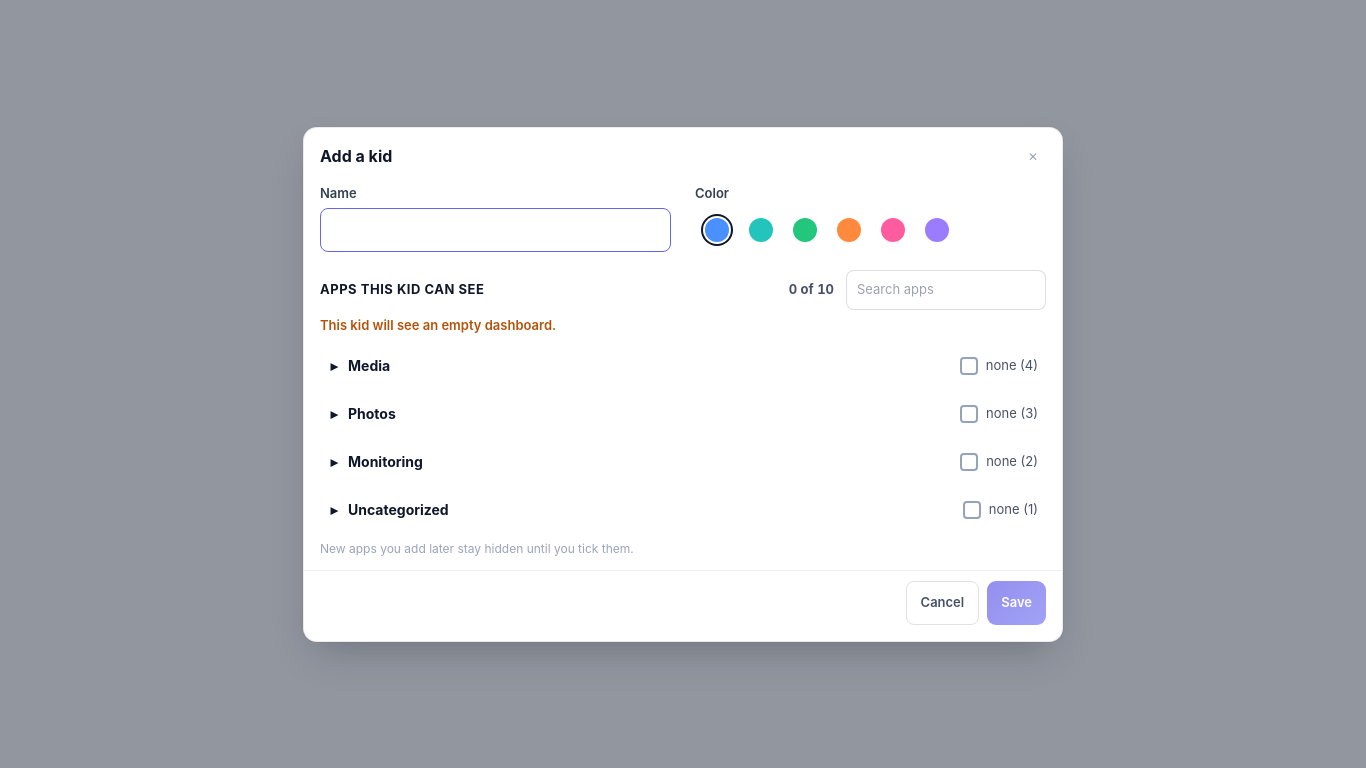
Test: App checklist (UX §3) › search filters chips across sections and expands any section with a match
Expected: the element with test id "kid-checklist" is shown, x1=320 y1=344 x2=1046 y2=532
Type "jelly" into the search field labelled "Search apps". click: (946, 290)
box: x1=846 y1=270 x2=1046 y2=310
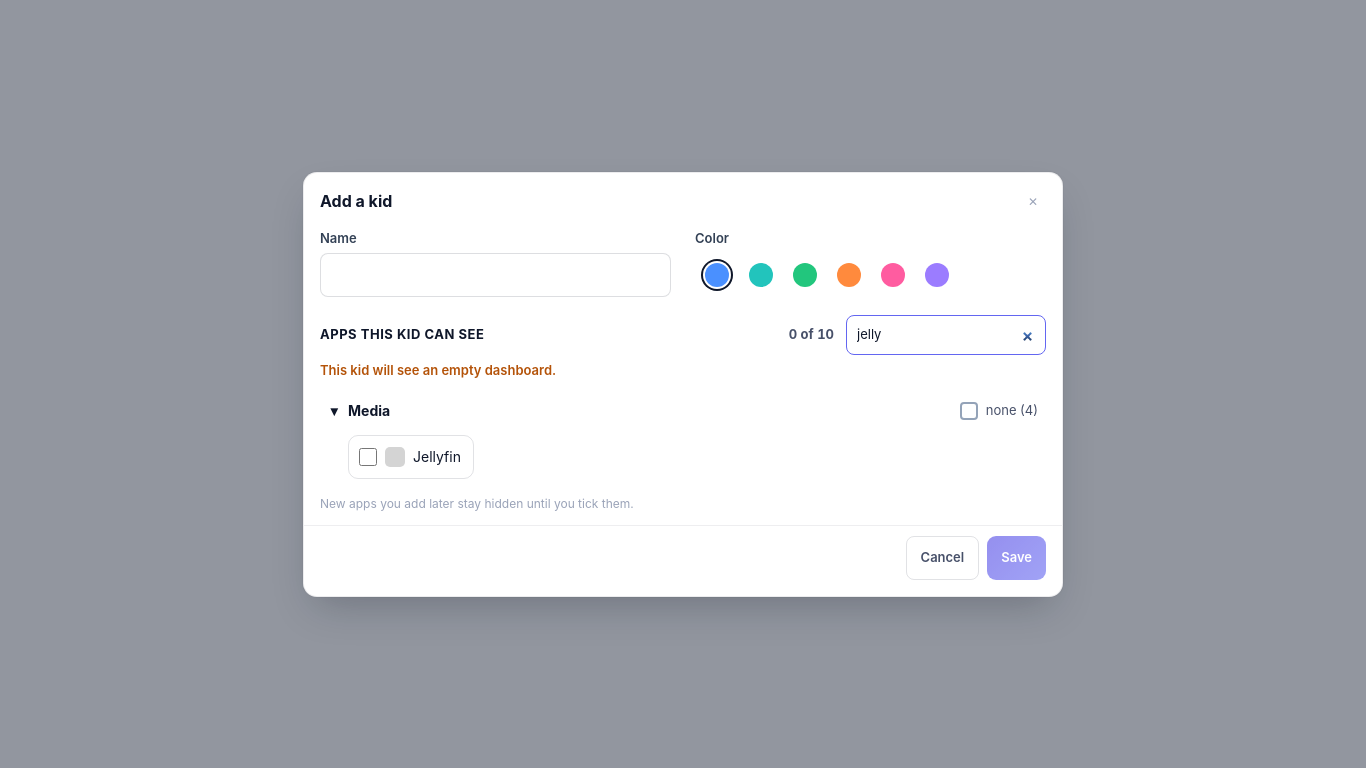
Expected: the text with test id "kid-app-count" reads "0 of 10", x1=789 y1=325 x2=834 y2=345
Result: the checkbox labelled "Jellyfin" is shown at x1=359 y1=448 x2=377 y2=466
Clear the search field named "Search apps". click: (946, 335)
box: x1=846 y1=315 x2=1046 y2=355
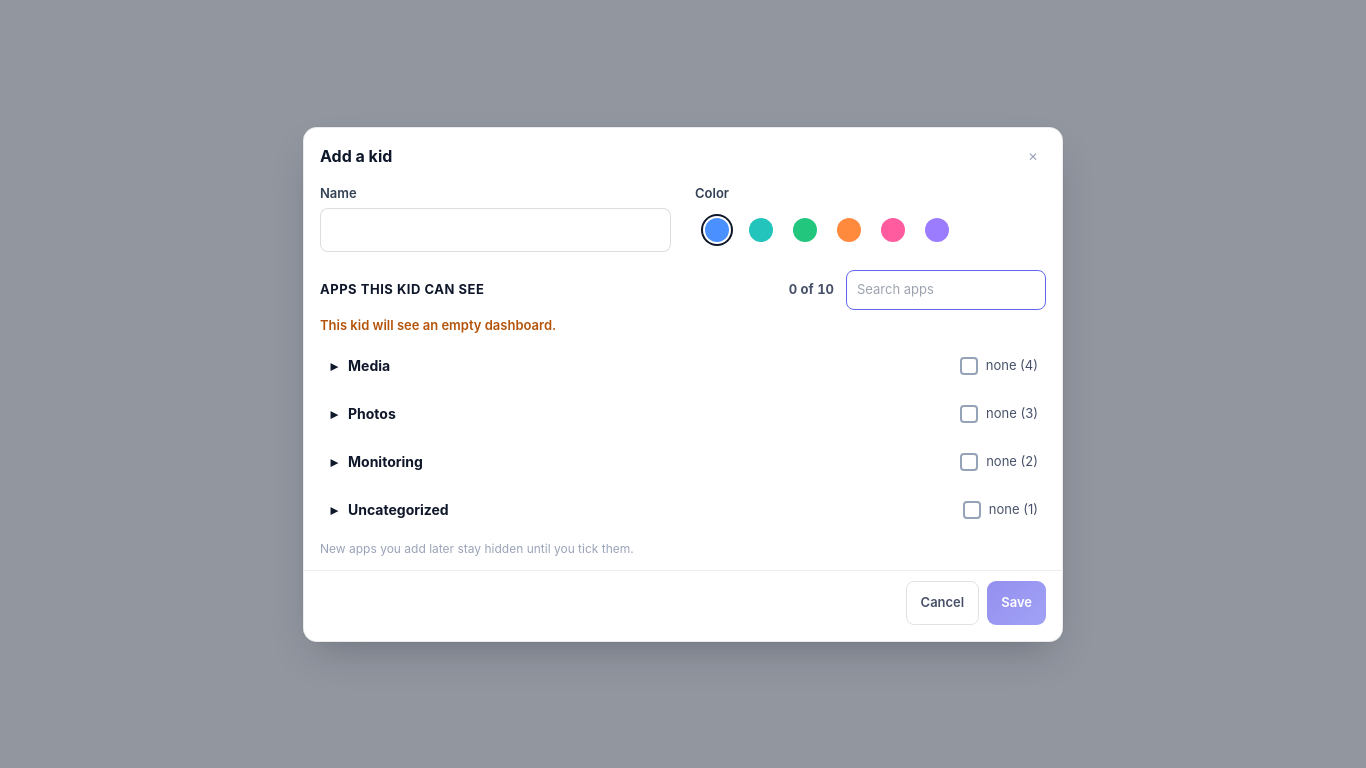
Result: the text "Jellyfin" is gone
